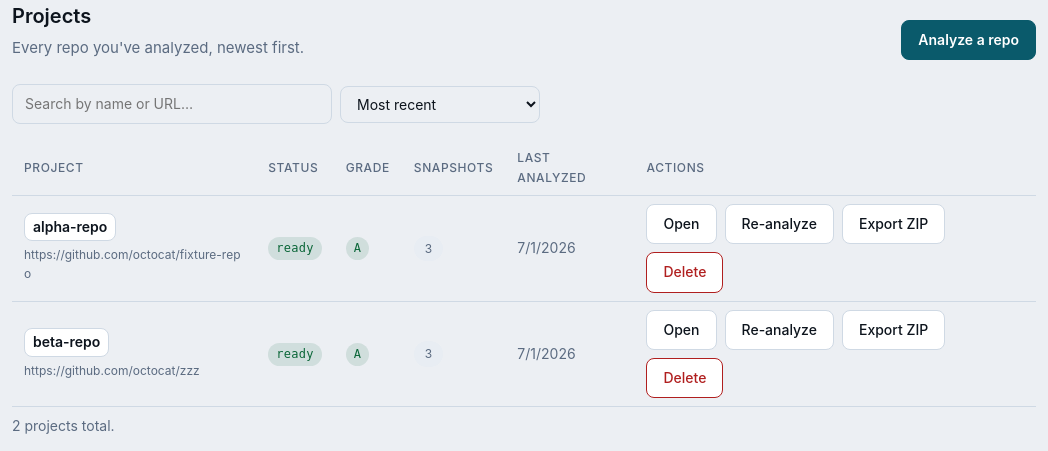
Scenario: ProjectsPage — listing › search filters by name and by URL
Expected: the button "alpha-repo" is shown, [24,213,116,241]
Type "zzz" into the search field named "Search projects" at (172, 104), box [12,84,332,124]
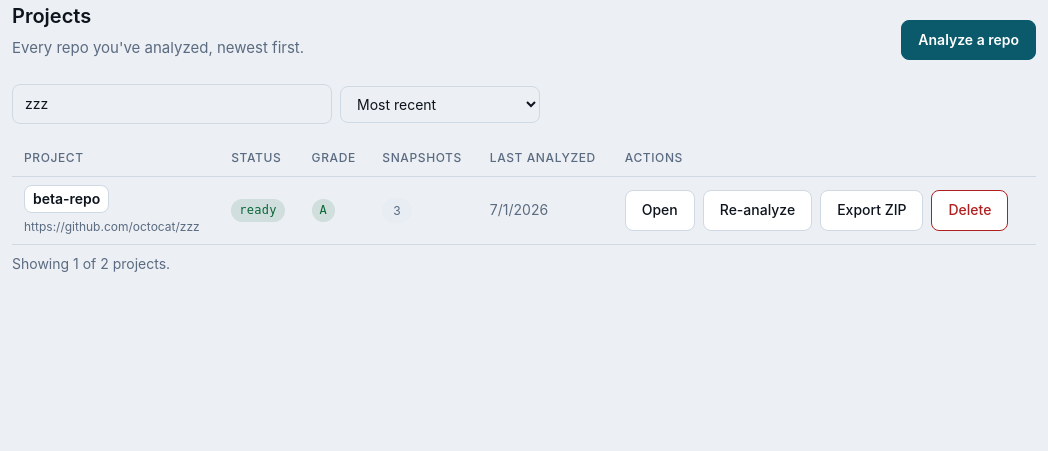
Expected: the button "beta-repo" is shown, [24,185,109,213]
Expected: the button "alpha-repo" is gone
